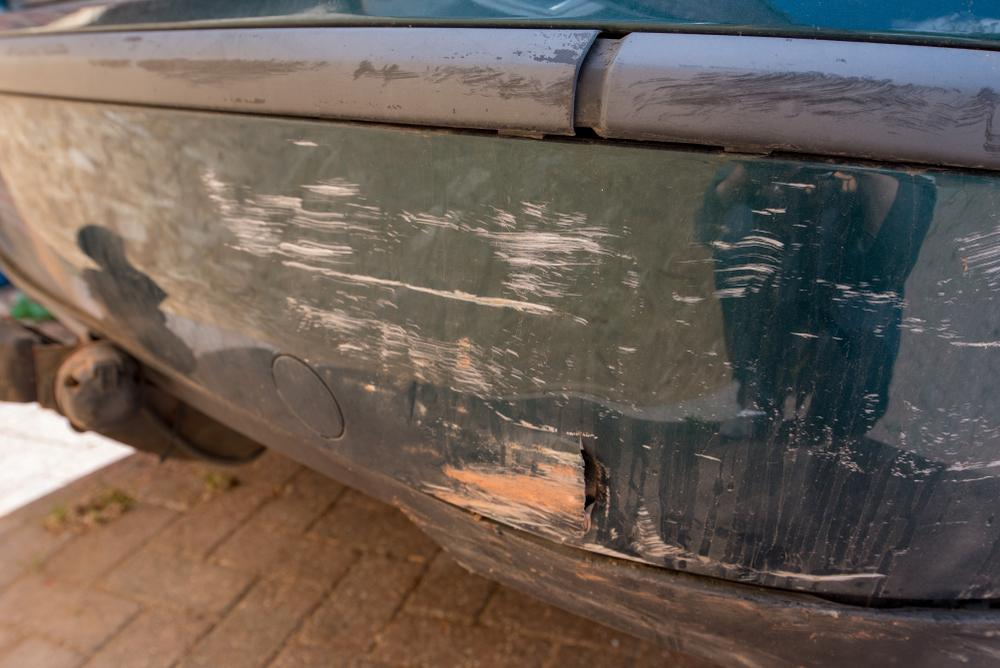crack: (577, 432, 600, 532)
scratch: (191, 162, 1000, 593), (84, 33, 578, 109), (626, 69, 1000, 145)
